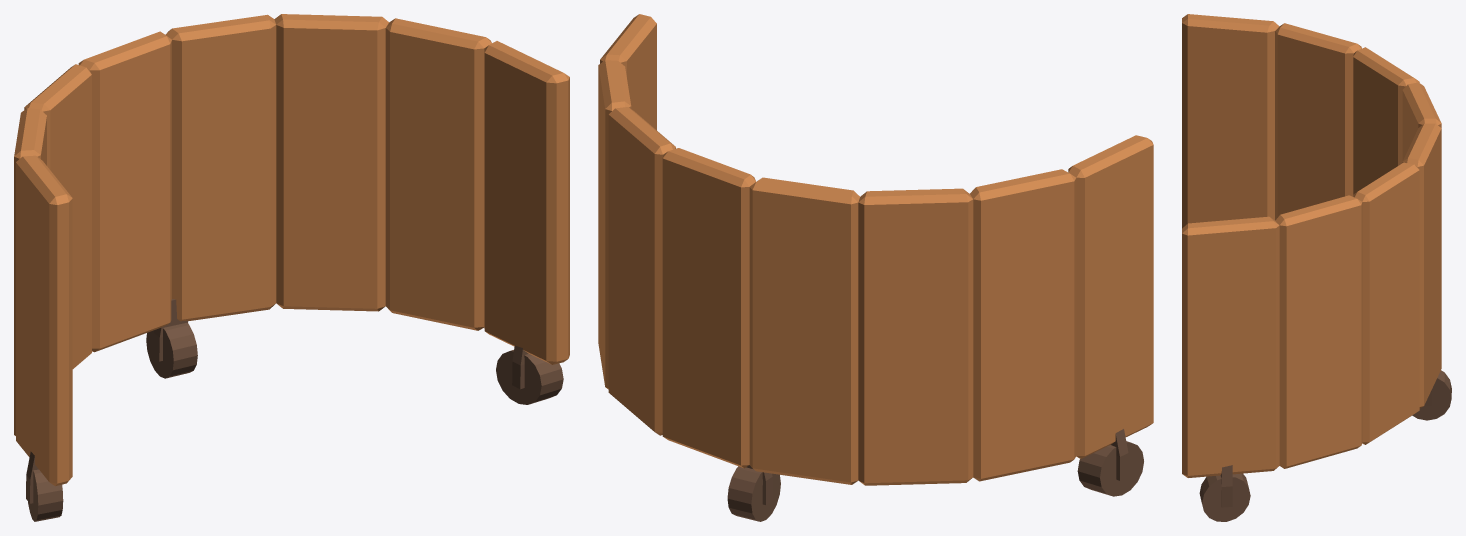
Rendered from Barricades_1.fbx.
The picture shows the model from 3 angles, left to right: view 1: azimuth 30°, elevation 25°; view 2: azimuth 150°, elevation 25°; view 3: azimuth 270°, elevation 25°; orthographic projection. The views are drawn at different scales.
Visible parts, largest first — view 1: barricades.005, barricades.004, barricades.003, barricades.002, barricades.006, barricades.010, barricades.015, barricades.009, barricades.013, barricades.017, barricades.001, barricades.014 (+4 smaller); view 2: barricades.005, barricades.008, barricades.012, barricades.007, barricades.006, barricades.010, barricades.009, barricades.004, barricades.016, barricades.017, barricades.001, barricades.011 (+4 smaller); view 3: barricades.003, barricades.002, barricades.015, barricades.004, barricades.009, barricades.017, barricades.008, barricades.016, barricades.012, barricades.014, barricades.005, barricades.013 (+3 smaller).
Boxes of the visible parts, bbox=[...] form: barricades.005: bbox=[172, 57, 276, 321]; barricades.004: bbox=[276, 84, 385, 311]; barricades.003: bbox=[385, 83, 484, 330]; barricades.002: bbox=[484, 159, 569, 364]; barricades.006: bbox=[92, 162, 171, 352]; barricades.010: bbox=[78, 31, 171, 207]; barricades.015: bbox=[484, 41, 569, 221]; barricades.009: bbox=[16, 250, 72, 486]; barricades.013: bbox=[274, 14, 388, 111]; barricades.017: bbox=[16, 155, 72, 317]; barricades.001: bbox=[26, 299, 563, 521]; barricades.014: bbox=[385, 18, 491, 105]; barricades.005: bbox=[662, 194, 749, 468]; barricades.008: bbox=[973, 266, 1076, 481]; barricades.012: bbox=[858, 188, 973, 349]; barricades.007: bbox=[858, 306, 973, 485]; barricades.006: bbox=[749, 298, 858, 484]; barricades.010: bbox=[749, 177, 859, 348]; barricades.009: bbox=[1076, 248, 1153, 458]; barricades.004: bbox=[608, 188, 662, 435]; barricades.016: bbox=[970, 169, 1076, 319]; barricades.017: bbox=[1068, 135, 1153, 274]; barricades.001: bbox=[727, 429, 1143, 521]; barricades.011: bbox=[662, 148, 755, 240]; barricades.003: bbox=[1279, 251, 1362, 468]; barricades.002: bbox=[1182, 316, 1279, 477]; barricades.015: bbox=[1182, 216, 1279, 355]; barricades.004: bbox=[1362, 224, 1419, 444]; barricades.009: bbox=[1182, 95, 1274, 228]; barricades.017: bbox=[1182, 14, 1279, 120]; barricades.008: bbox=[1275, 104, 1353, 220]; barricades.016: bbox=[1275, 23, 1361, 145]; barricades.012: bbox=[1353, 47, 1419, 184]; barricades.014: bbox=[1275, 195, 1362, 276]; barricades.005: bbox=[1419, 162, 1441, 408]; barricades.013: bbox=[1353, 162, 1419, 282].
Bounding box in the file's own units: 471 × 293 × 244.
